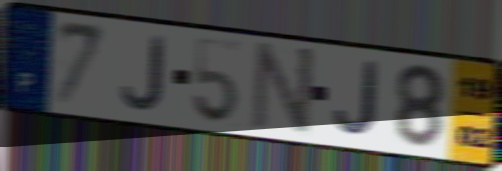5: (190, 33, 249, 127)
7: (56, 17, 108, 111)
8: (392, 62, 447, 151)
J: (332, 59, 381, 139), (120, 33, 167, 114)
N: (248, 40, 318, 140)
